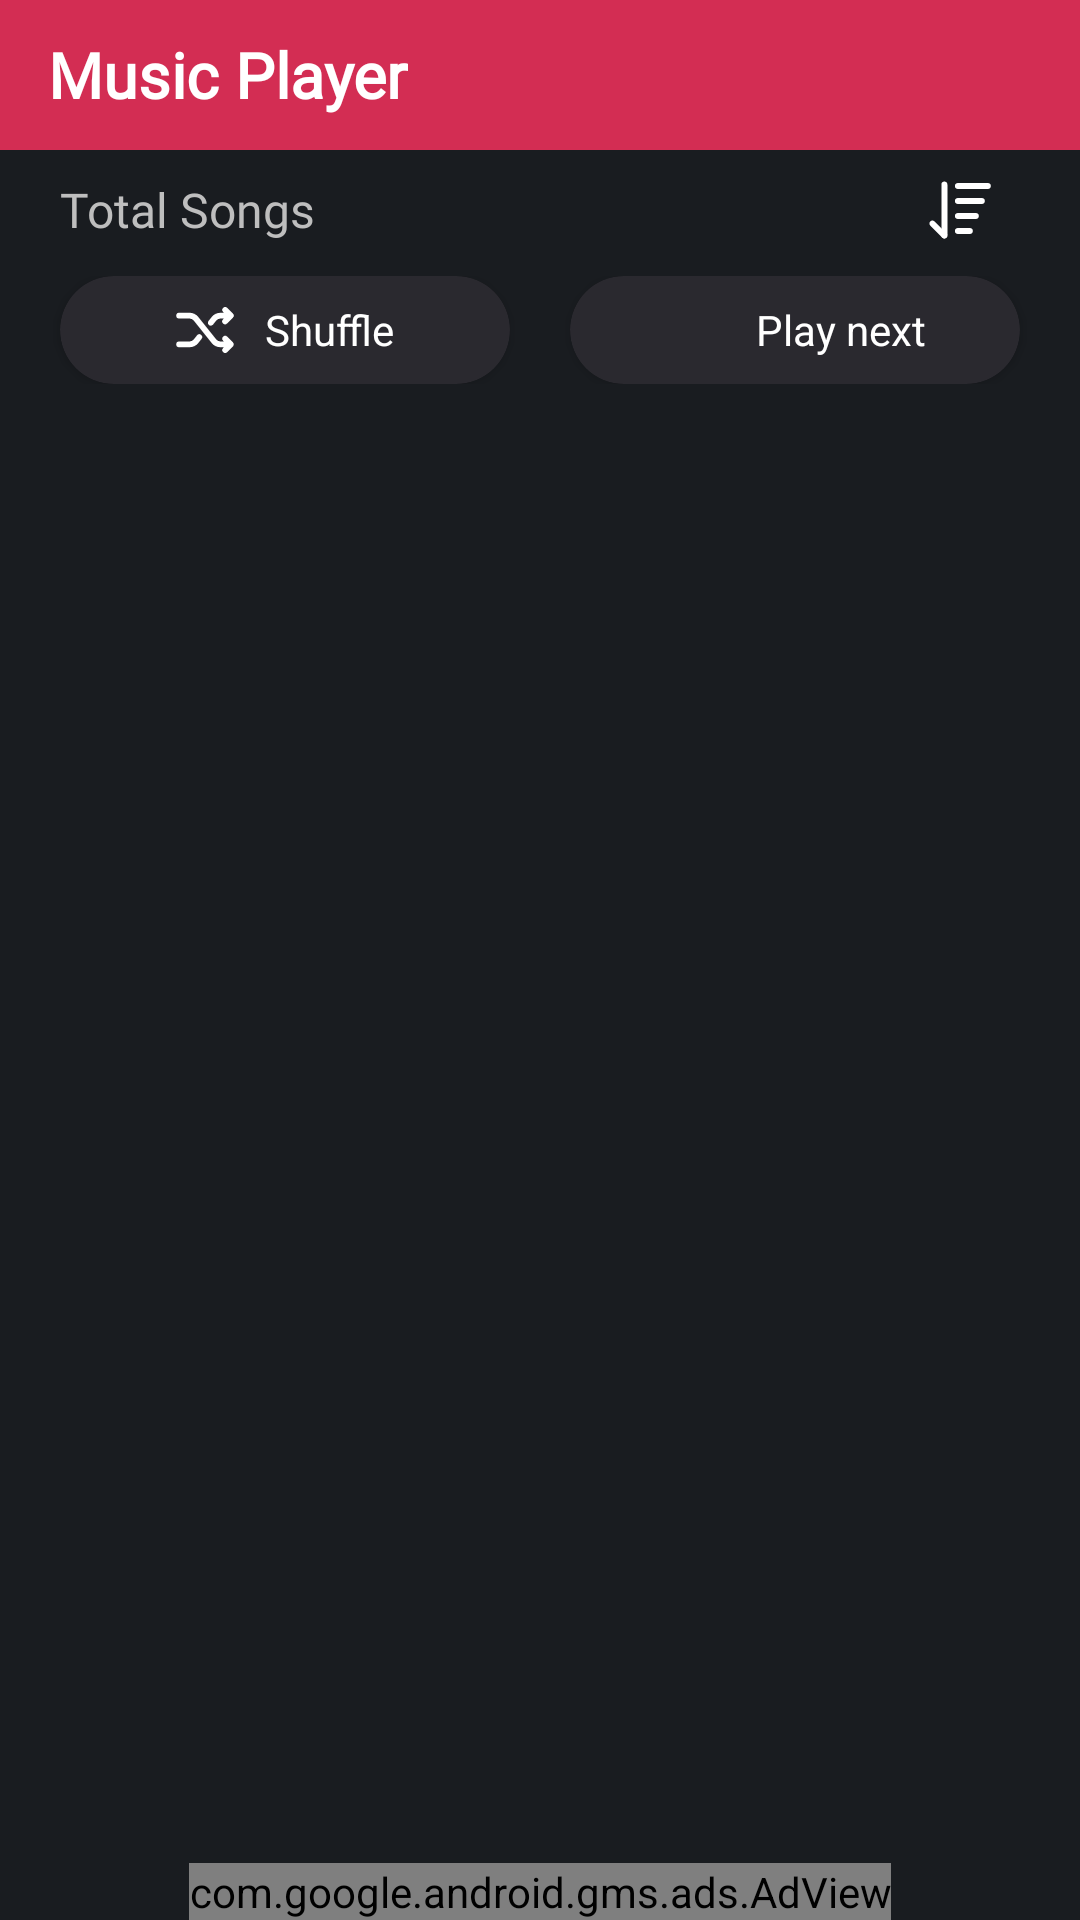

Where to tap for icons on this 1080w x 1920h app screen, as point (x, y):
sort: point (960, 210)
